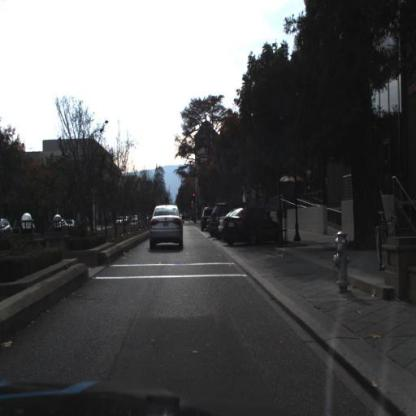car: (145, 197, 187, 258), (222, 210, 282, 246), (223, 208, 277, 248), (211, 203, 229, 239), (212, 201, 222, 238)
